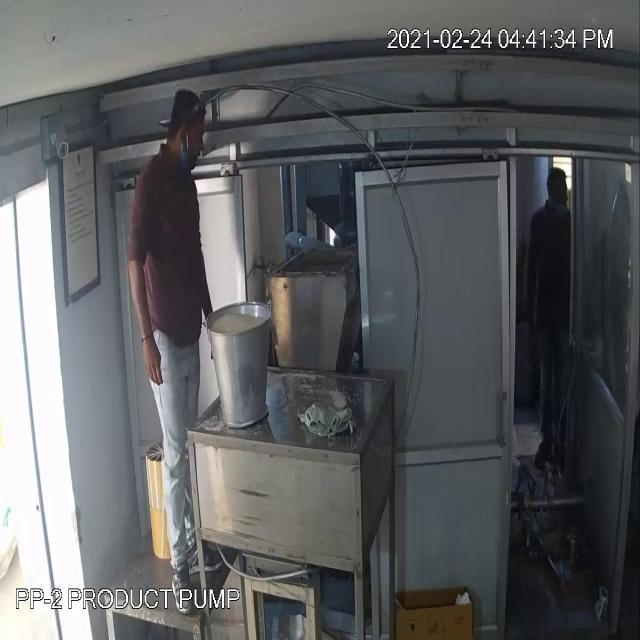no-helmet: (168, 84, 208, 154)
